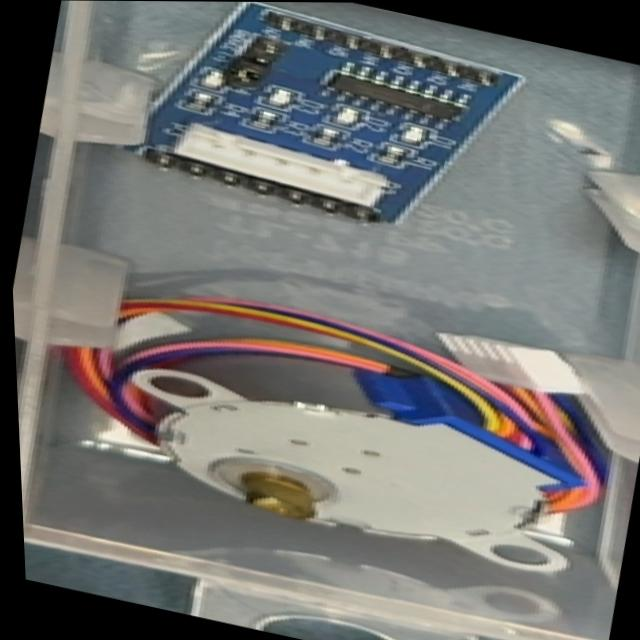Stepper Motor: (104, 327, 614, 587)
Stepper Motor Board: (120, 1, 541, 254)
